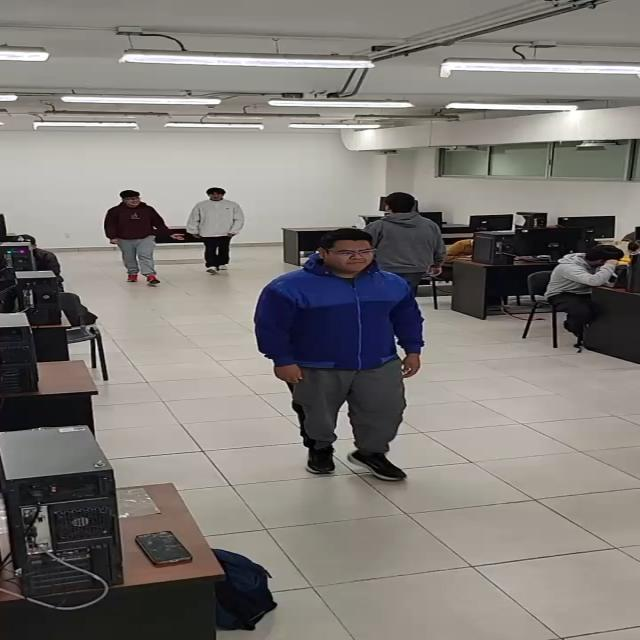Persona: (256, 229, 422, 491), (367, 185, 446, 305), (102, 184, 171, 289), (187, 184, 245, 277)
